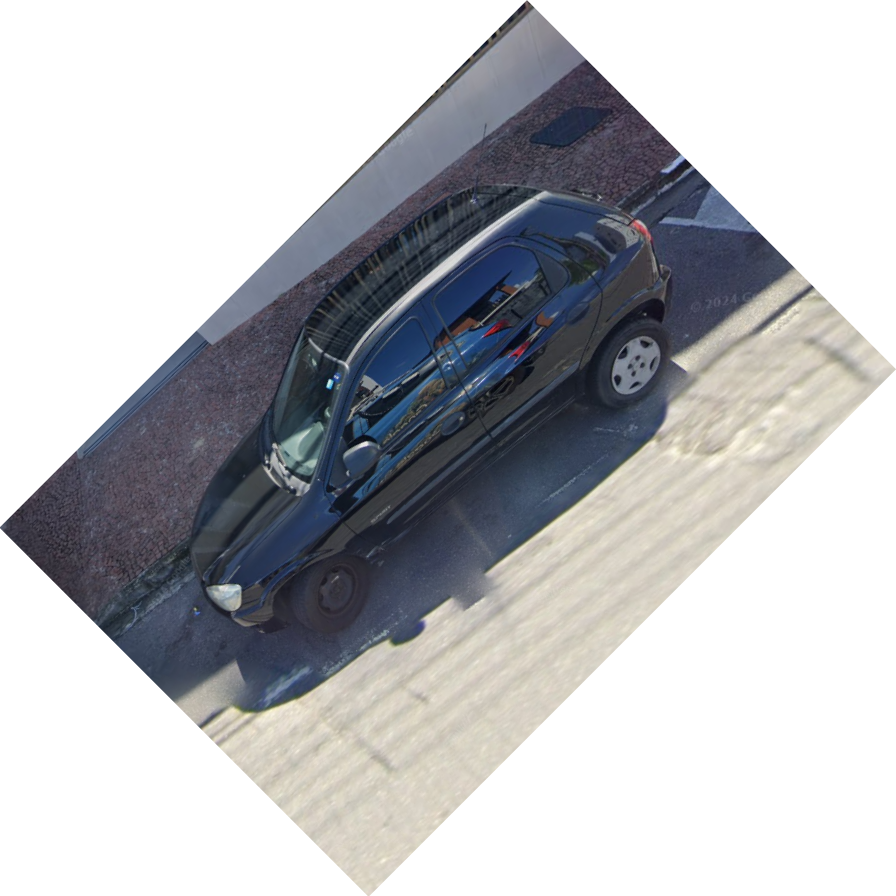car: (182, 126, 675, 645)
